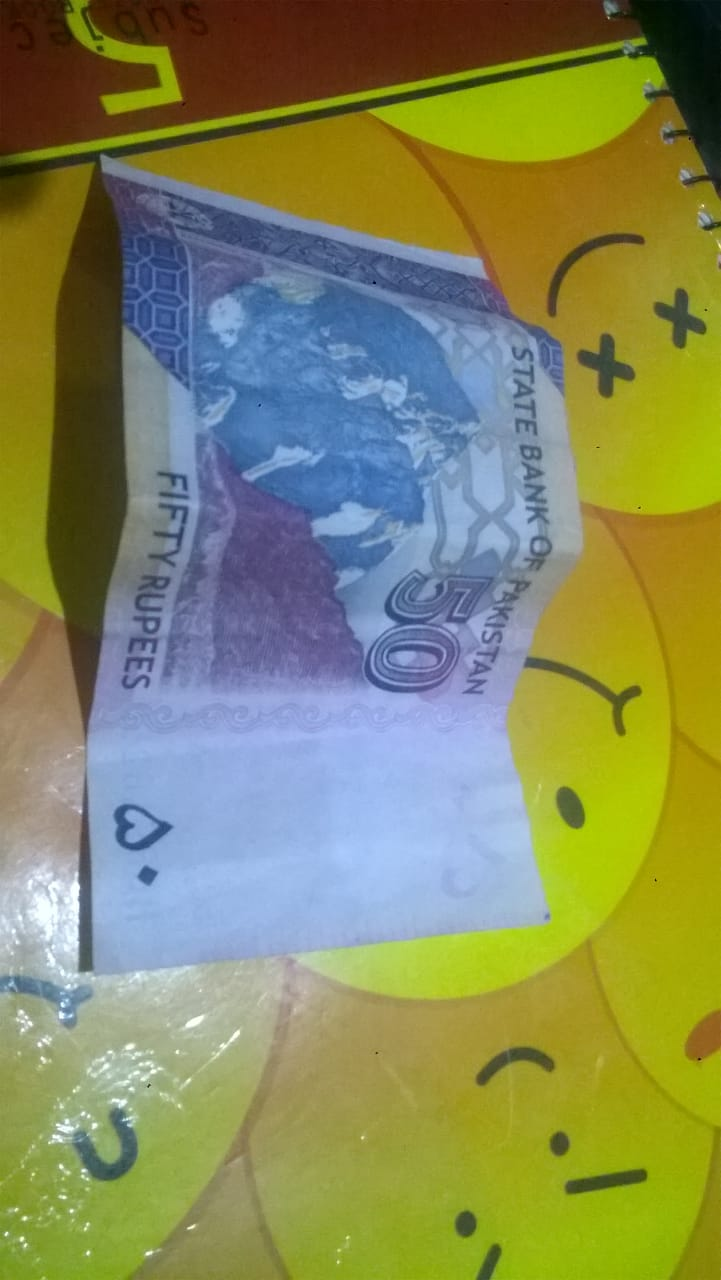50 rupee: (69, 109, 567, 1016)
